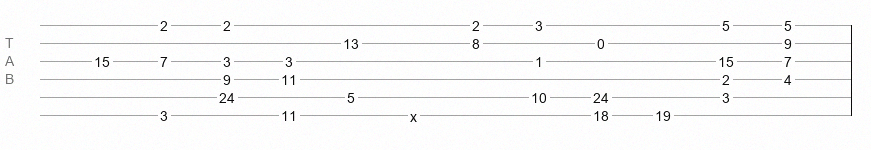0: (597, 36, 605, 46)
1: (535, 54, 543, 64)
10: (531, 90, 547, 100)
11: (281, 72, 297, 82), (281, 108, 297, 118)
13: (343, 36, 359, 46)
15: (94, 54, 110, 64), (718, 54, 734, 64)
18: (593, 108, 609, 118)
19: (655, 108, 671, 118)
2: (160, 18, 168, 28), (223, 18, 231, 28), (472, 18, 480, 28), (722, 72, 730, 82)
24: (219, 90, 235, 100), (593, 90, 609, 100)
3: (160, 108, 168, 118), (223, 54, 231, 64), (285, 54, 293, 64), (535, 18, 543, 28), (722, 90, 730, 100)
4: (784, 72, 792, 82)
5: (347, 90, 355, 100), (722, 18, 730, 28), (784, 18, 792, 28)
7: (160, 54, 168, 64), (784, 54, 792, 64)
8: (472, 36, 480, 46)
9: (223, 72, 231, 82), (784, 36, 792, 46)
x: (410, 109, 417, 117)
